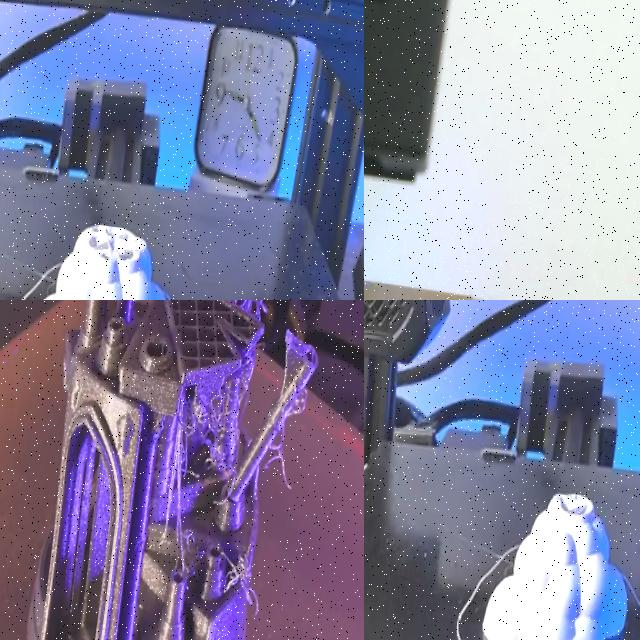spaghetti: (144, 364, 264, 604), (259, 386, 324, 502)
